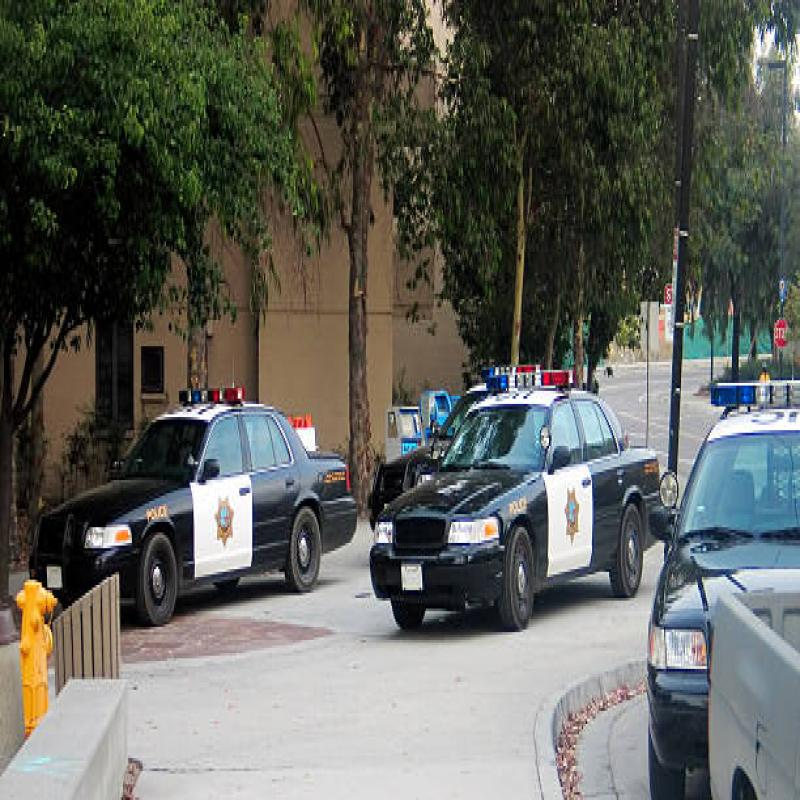AmbulanceSiren: (484, 334, 574, 416), (705, 364, 800, 434), (176, 378, 254, 412)
